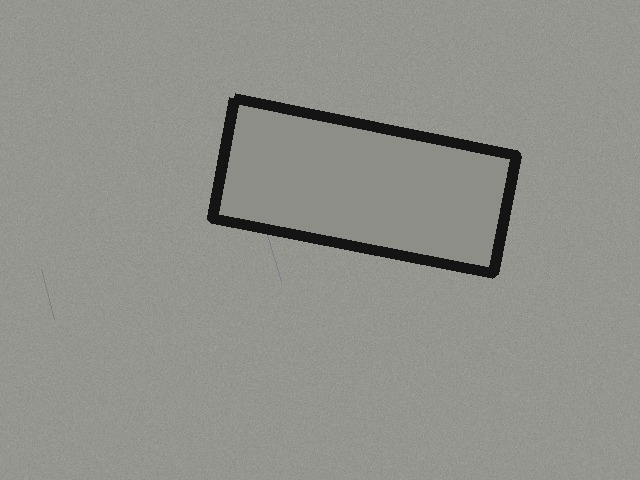parking_area: (212, 98, 516, 273)
